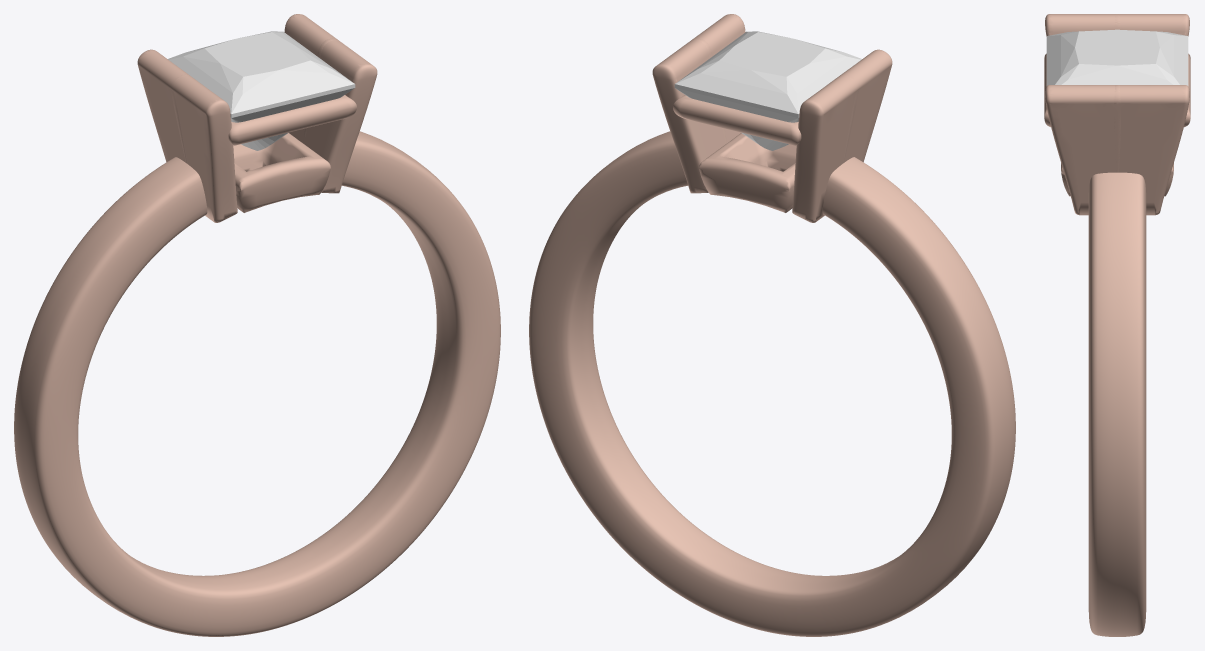
File: diamond-princess-rosegold-halfmoonbezel-straightband-solitaire.glb
3 views of the same model, side by side, from view 1: azimuth 30°, elevation 25°; view 2: azimuth 150°, elevation 25°; view 3: azimuth 270°, elevation 25° (orthographic).
Parts seen in each view (by area): view 1: metal, stone; view 2: metal, stone; view 3: metal, stone.
Boxes of the visible parts, box(x1,y1,x2,y2) form: metal: box(14, 14, 500, 636); stone: box(168, 31, 355, 150); metal: box(529, 14, 1015, 636); stone: box(674, 31, 861, 150); metal: box(1044, 14, 1190, 636); stone: box(1046, 29, 1188, 85).
Bounding box in the file's own units: 20.51 × 23.86 × 5.6.
